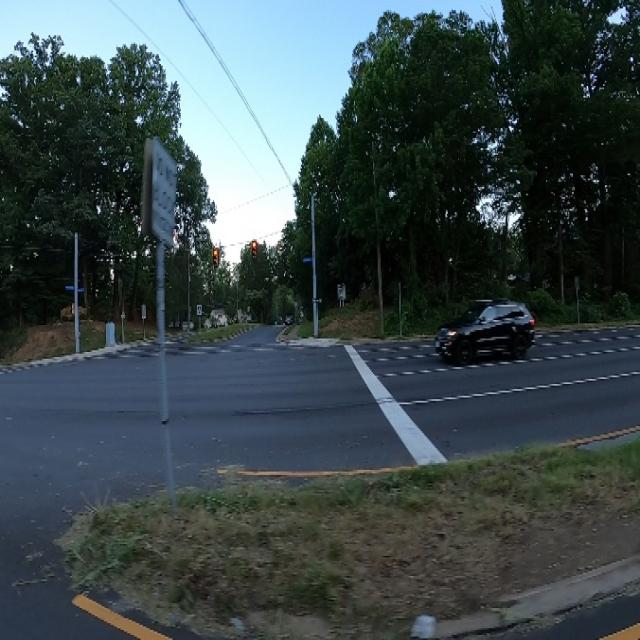cars: (428, 292, 541, 366)
